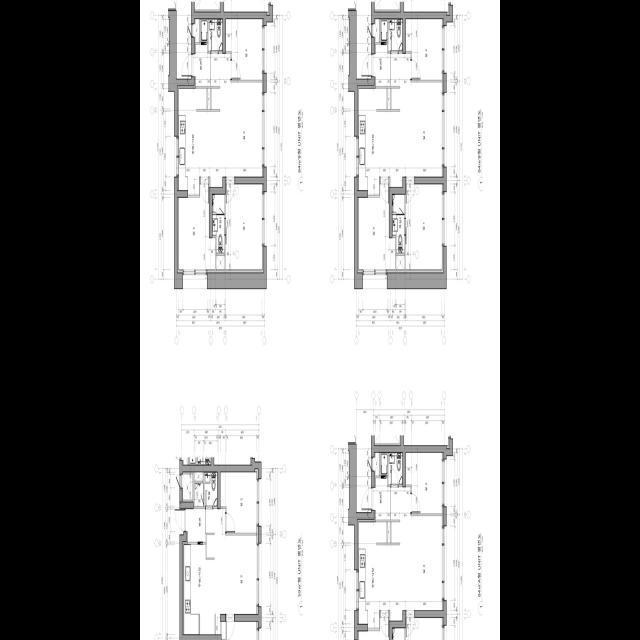background: (140, 0, 500, 640)
space_bedroom: (359, 177, 396, 270), (179, 177, 216, 270), (406, 184, 442, 270), (226, 184, 262, 270), (220, 472, 257, 533), (406, 17, 442, 79), (226, 17, 262, 79), (406, 452, 442, 513), (406, 617, 442, 640), (221, 621, 257, 640)
space_front: (372, 477, 391, 519), (372, 44, 391, 86), (193, 44, 211, 86), (186, 509, 206, 542)
space_kitchen: (359, 522, 403, 629), (359, 89, 403, 195), (179, 89, 223, 195), (184, 544, 215, 634)
space_living_room: (206, 509, 257, 634), (391, 53, 442, 176), (391, 487, 442, 610), (211, 53, 262, 176)
space_other: (356, 10, 371, 79), (356, 443, 371, 512), (176, 10, 191, 79), (181, 474, 192, 499), (373, 18, 379, 42), (193, 18, 199, 42), (373, 452, 379, 475), (396, 255, 405, 269), (216, 255, 225, 269), (195, 472, 203, 480), (388, 88, 390, 108), (388, 522, 390, 542), (208, 88, 210, 108)
space_toilet: (392, 194, 405, 253), (212, 194, 225, 253), (195, 472, 217, 506), (380, 18, 402, 50), (380, 452, 402, 484), (200, 18, 222, 50), (393, 628, 404, 640)
